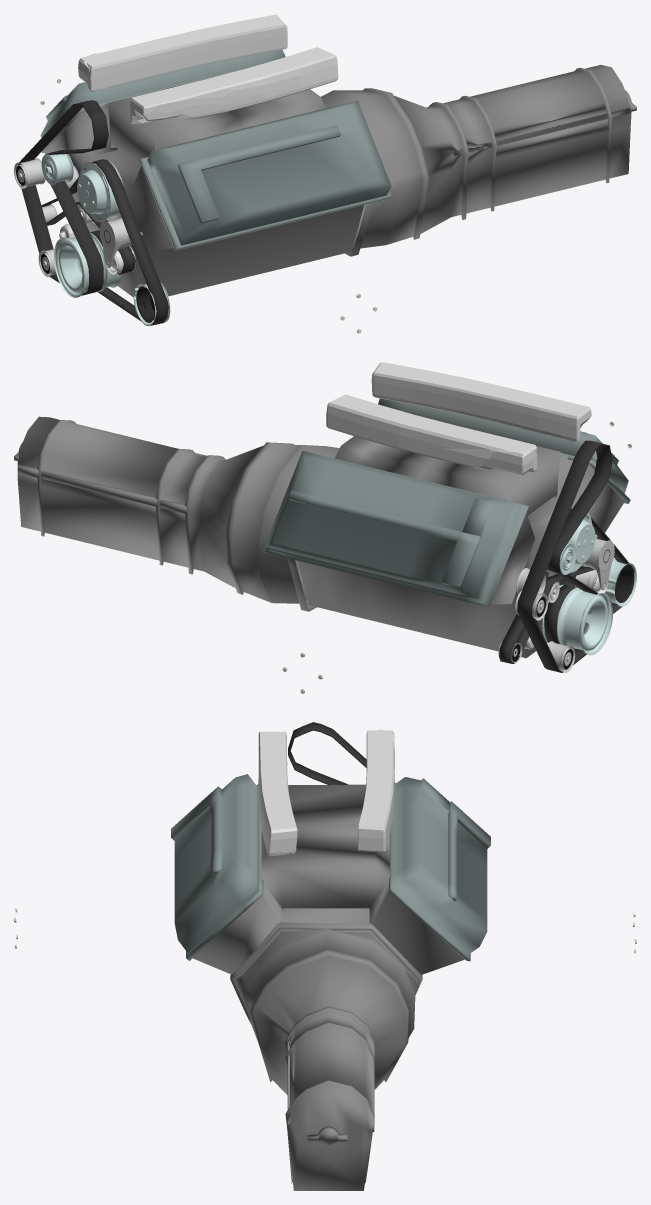
The model's file is genesis3_just_engin.fbx.
The picture shows the model from 3 angles, top to bottom: view 1: azimuth 30°, elevation 25°; view 2: azimuth 150°, elevation 25°; view 3: azimuth 270°, elevation 25°; orthographic projection. The views are drawn at different scales.
Visible parts, largest first — view 1: engine block, Cube.001, Cube, blower belt, fan ac belt, harmonic balancer, waterpump pulley, tension mid, tension top, ac pulley, Circle.003; view 2: engine block, Cube, Cube.001, blower belt, harmonic balancer, fan ac belt, ac pulley, tension mid, waterpump pulley, tension bottom; view 3: engine block, Cube, Cube.001, blower belt.
Part boxes in pixels (bbox=[...]): engine block: bbox=[40, 49, 636, 297]; Cube.001: bbox=[78, 14, 287, 91]; Cube: bbox=[130, 47, 338, 123]; blower belt: bbox=[18, 100, 108, 295]; fan ac belt: bbox=[41, 159, 168, 325]; harmonic balancer: bbox=[54, 233, 122, 297]; waterpump pulley: bbox=[77, 159, 123, 221]; tension mid: bbox=[99, 218, 142, 267]; tension top: bbox=[41, 149, 73, 185]; ac pulley: bbox=[133, 283, 170, 326]; Circle.003: bbox=[14, 158, 45, 188]; engine block: bbox=[14, 398, 630, 658]; Cube: bbox=[371, 362, 591, 442]; Cube.001: bbox=[326, 394, 537, 475]; blower belt: bbox=[517, 440, 612, 672]; harmonic balancer: bbox=[542, 584, 613, 655]; fan ac belt: bbox=[499, 508, 634, 663]; ac pulley: bbox=[605, 559, 636, 606]; tension mid: bbox=[581, 534, 614, 590]; waterpump pulley: bbox=[567, 513, 595, 572]; tension bottom: bbox=[547, 641, 575, 672]; engine block: bbox=[171, 774, 490, 1190]; Cube: bbox=[258, 731, 297, 856]; Cube.001: bbox=[357, 729, 394, 852]; blower belt: bbox=[288, 722, 366, 784].
Size of the model in its own units: 372 by 134 by 350.
